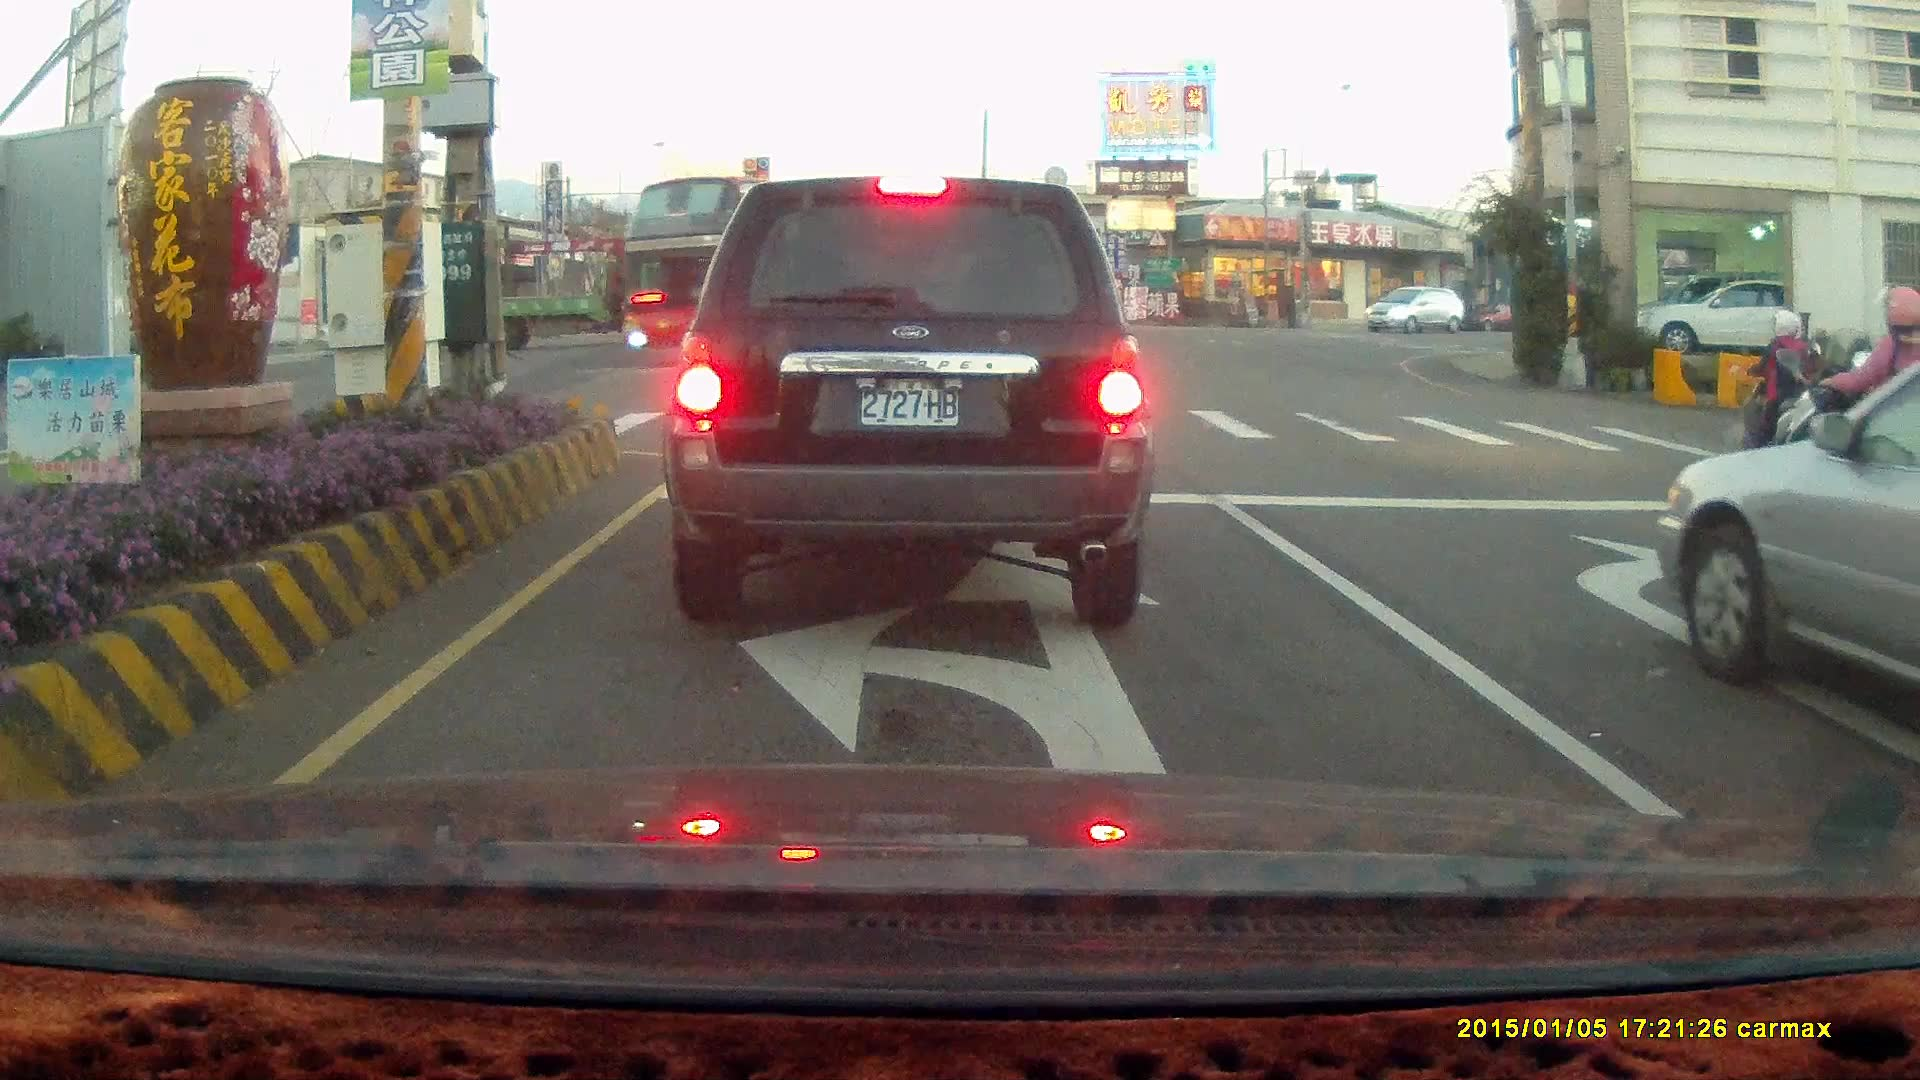rider: (1783, 282, 1920, 544), (1728, 309, 1827, 479)
vehicle: (659, 173, 1155, 630), (1649, 356, 1920, 734), (1661, 362, 1920, 708), (501, 254, 689, 347), (1629, 275, 1837, 356), (1642, 275, 1784, 356), (1896, 493, 1920, 836), (1364, 287, 1469, 339)
